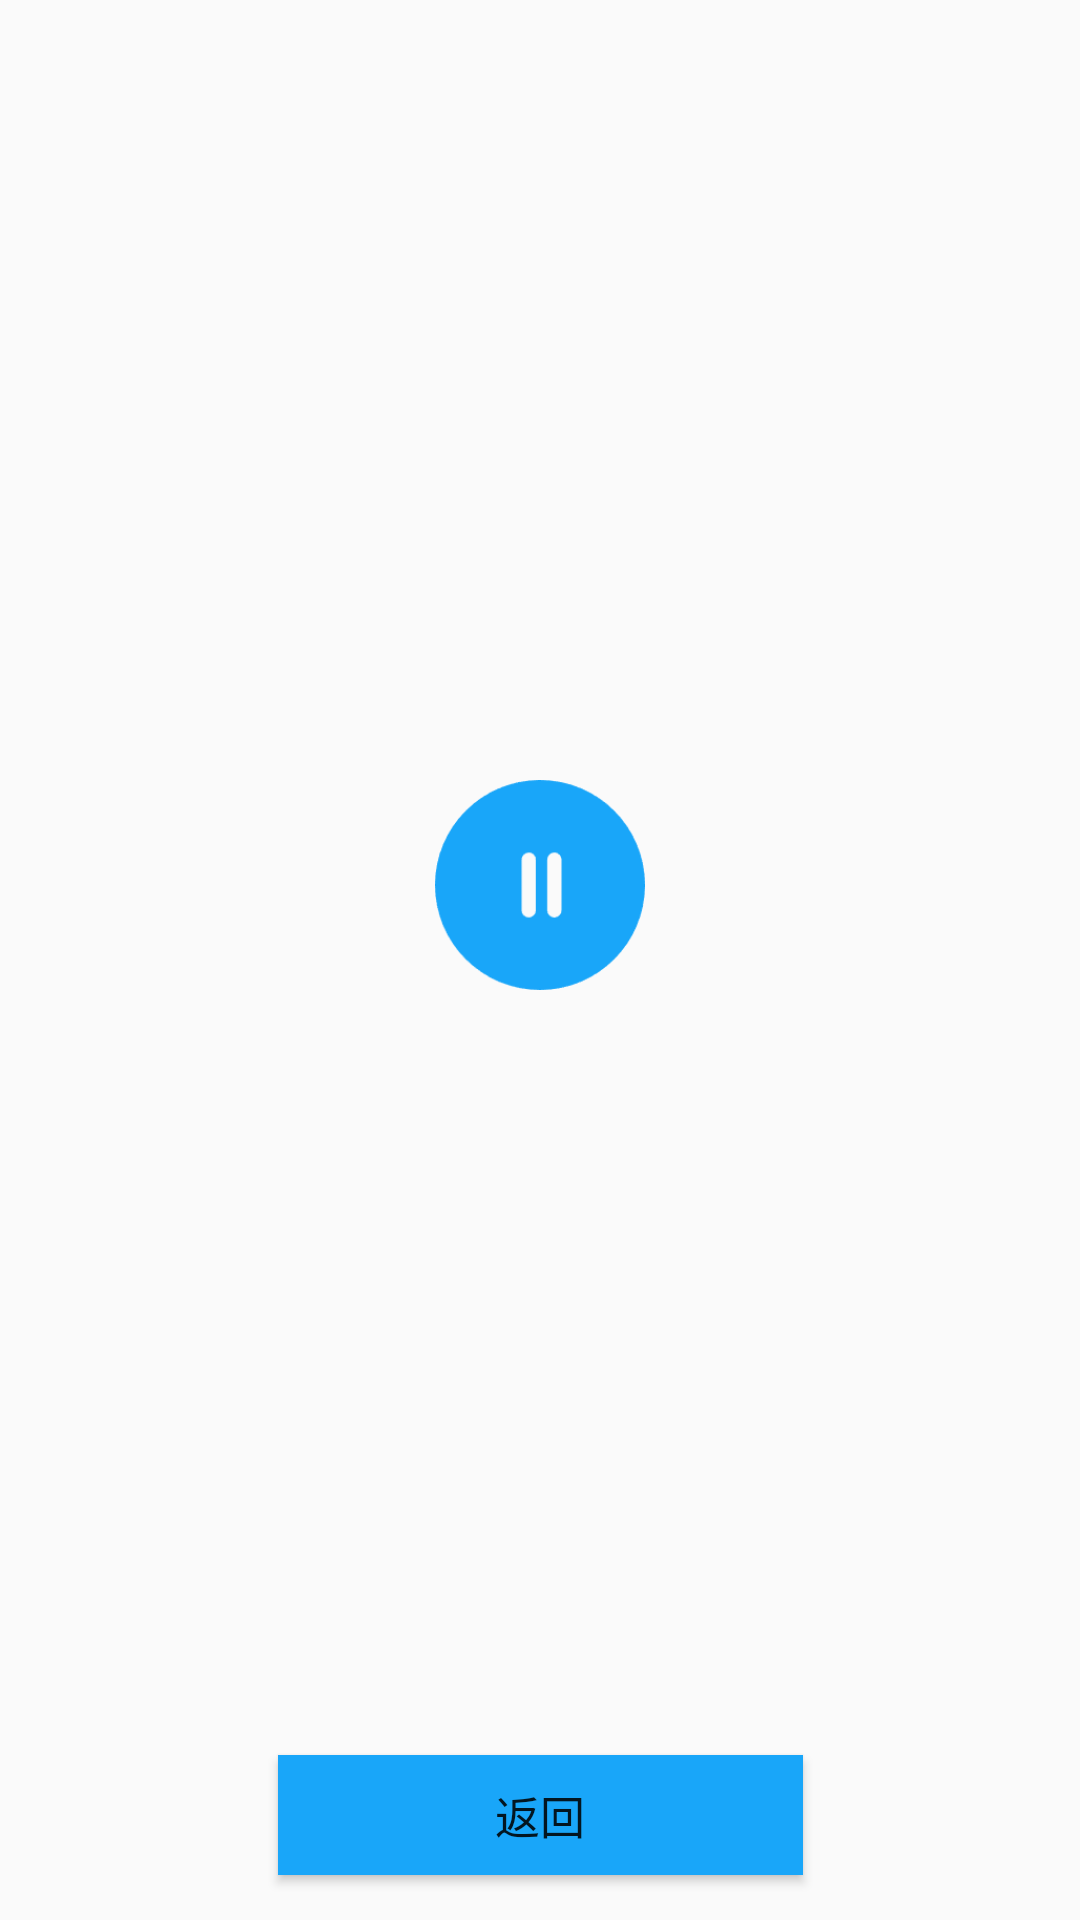

Icons on this 1080px×1920px Android screen, each with its box as box=[x1, y1, x2, y2]:
player: box=[435, 780, 645, 990]
